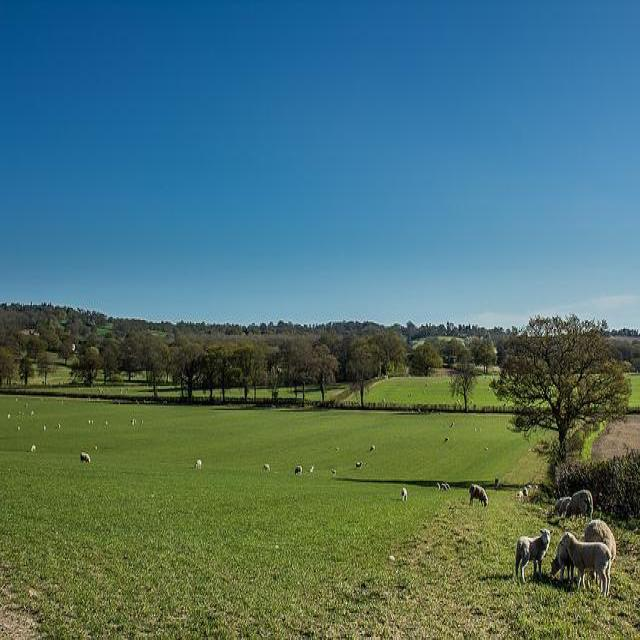Sheep: (3, 379, 620, 598), (559, 530, 612, 600), (515, 529, 554, 583)
